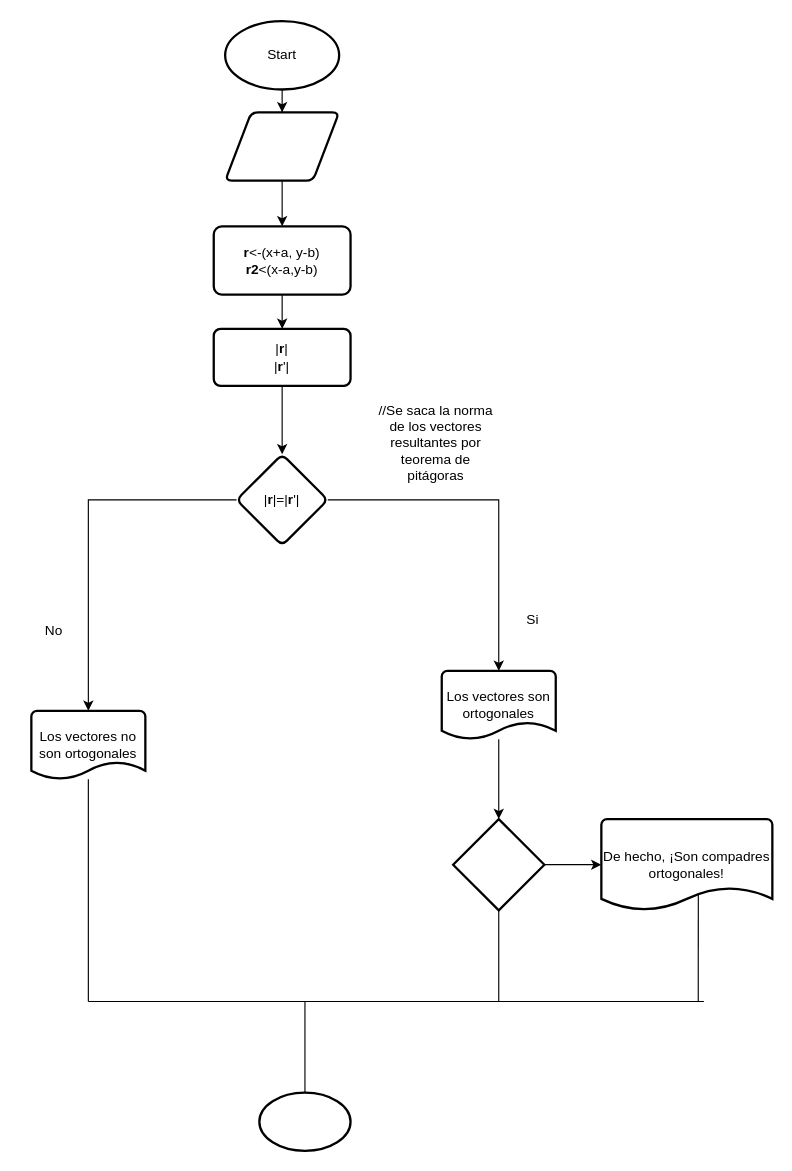
The diagram is 792 pixels wide and 1171 high, and some of its shapes have lost their labels. Here are the shapes that lost their labels. From the top down, the box of each, then its label:
(223, 111, 340, 181): (x,y), (a,b)
(451, 817, 545, 911): a=-y
(258, 1091, 351, 1151): Fin
